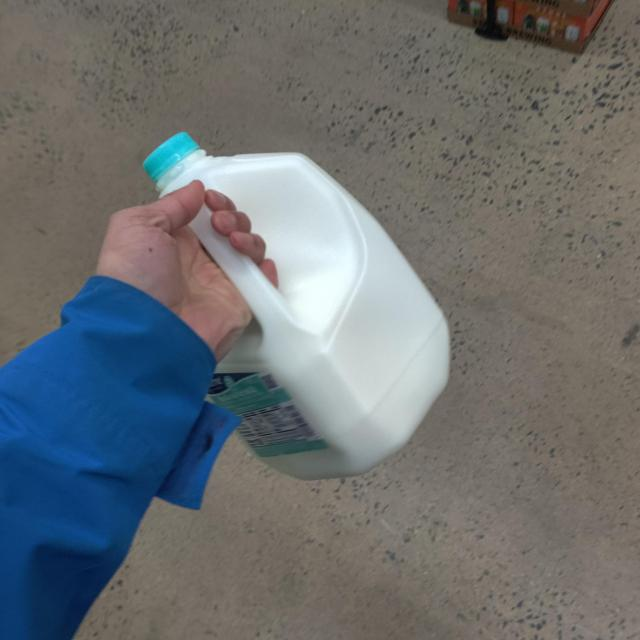Milk: (124, 102, 478, 498)
